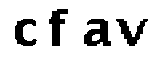a: (83, 16, 111, 49)
c: (8, 15, 38, 51)
f: (45, 7, 72, 50)
v: (116, 15, 150, 52)
